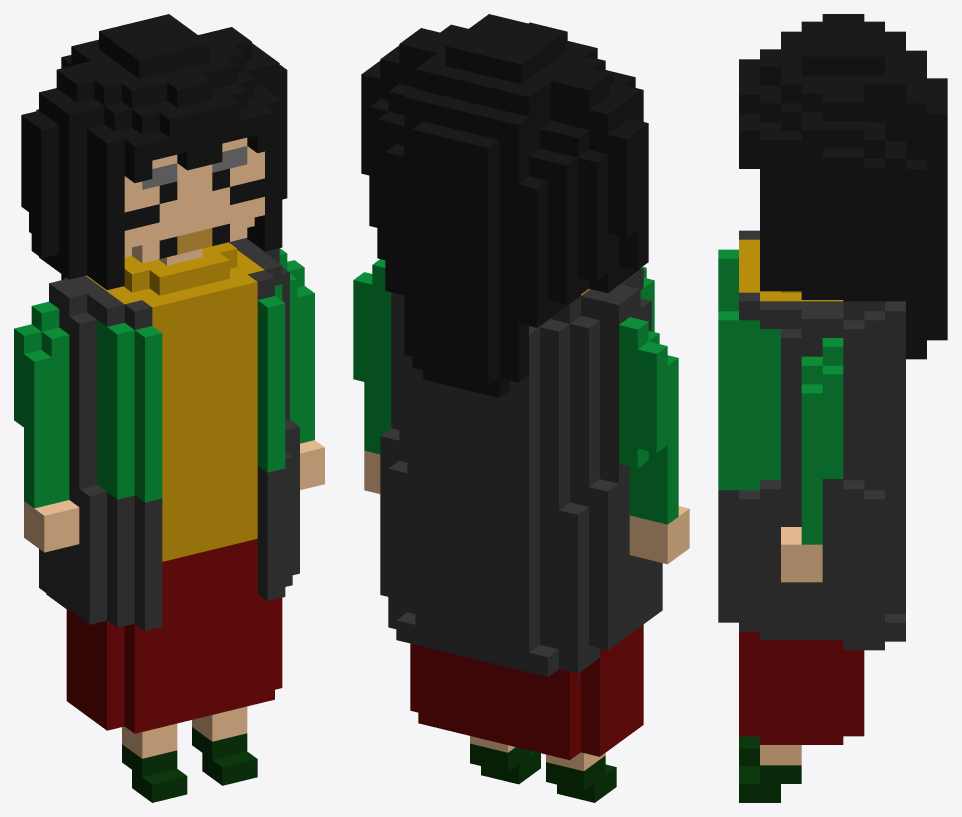
Rendered from Granny-3.obj.
3 renders of one model, left to right at view 1: azimuth 30°, elevation 25°; view 2: azimuth 150°, elevation 25°; view 3: azimuth 270°, elevation 25°, orthographic. The views are drawn at different scales.
Size of the model in its own units: 1.6 by 3.9 by 1.1.
Materials: 1 (1 with a texture image).
